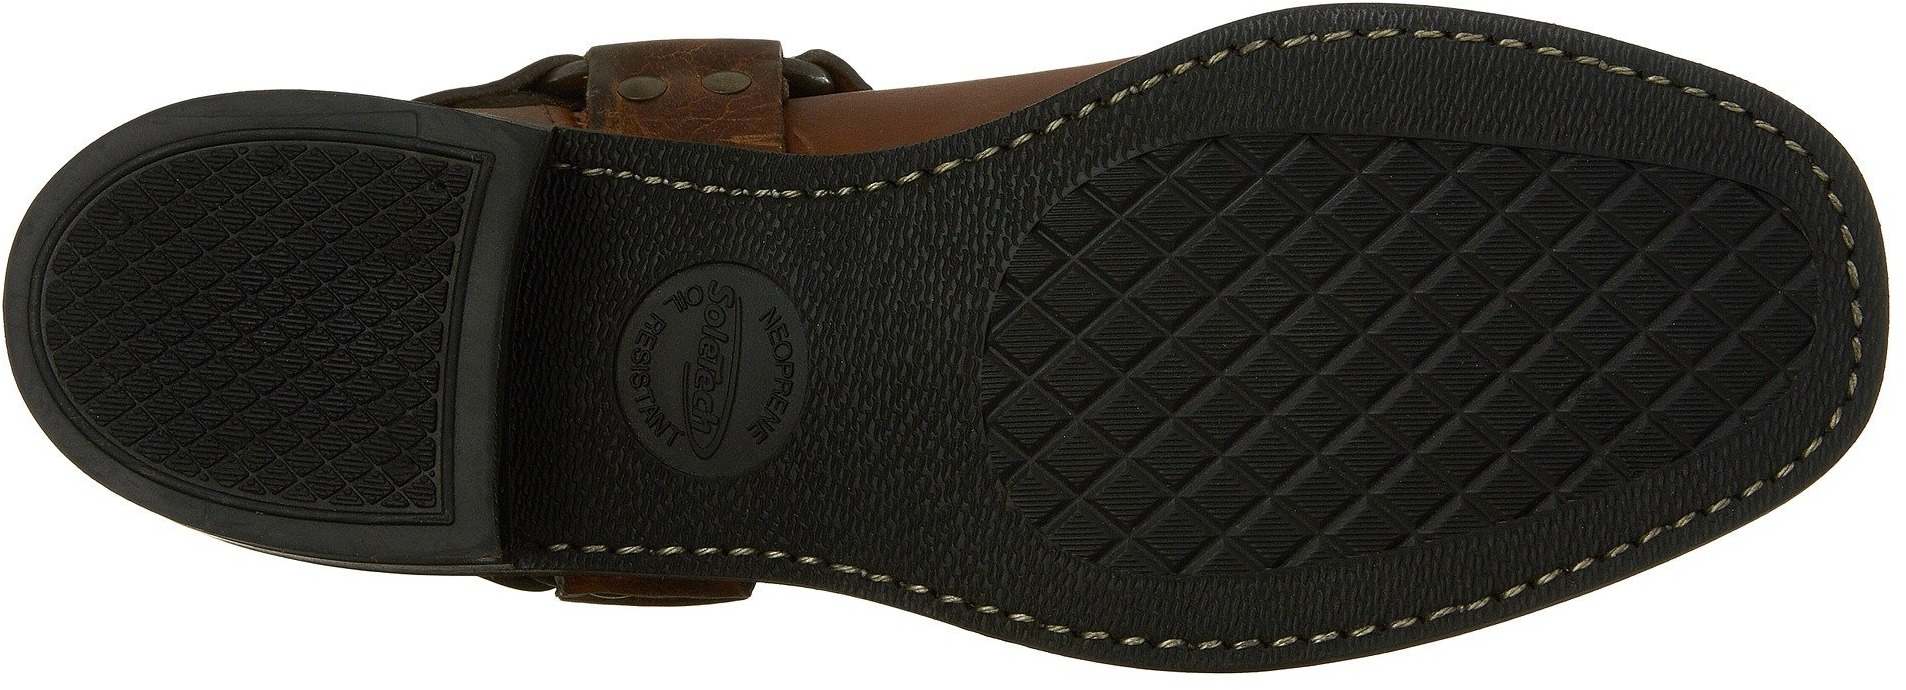circle: (607, 266, 824, 480)
quad: (979, 132, 1817, 581), (36, 138, 484, 515)
